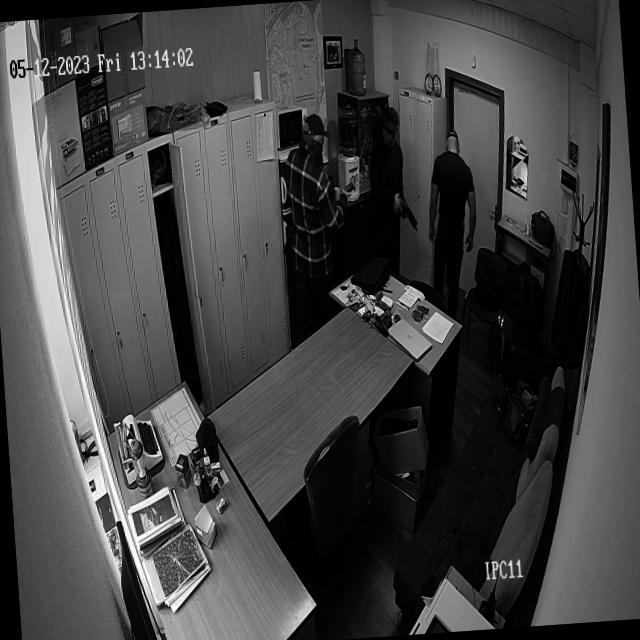gun: (396, 188, 419, 236)
person: (422, 130, 480, 316), (284, 116, 339, 312)
person with a gun: (365, 106, 409, 268)
